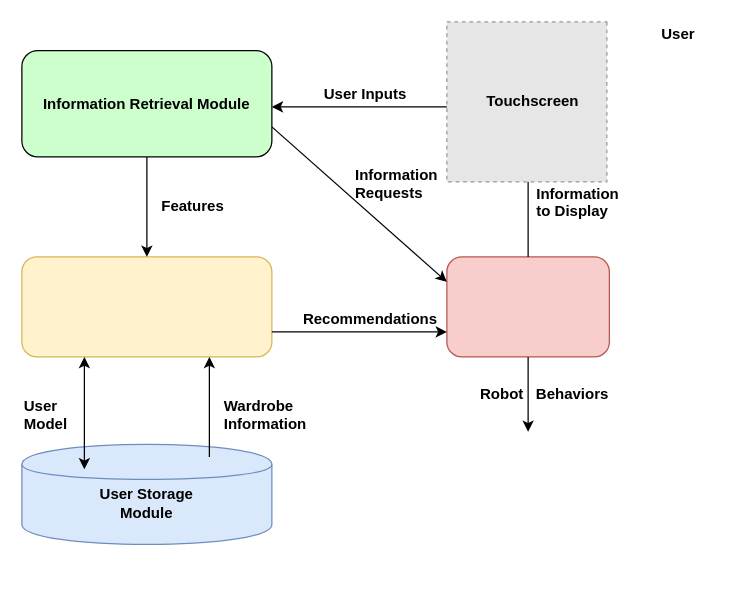
The diagram is 731 pixels wide and 601 high, and some of its shapes have lost their labels. Grey dashed boxes stand in for pictures. Here are the shapes that lost their labels. From the top down, the centre of each, then its label:
At (x=146, y=306): "Clothing Recommendation Module".
At (x=527, y=306): "Robot Interaction Module".
